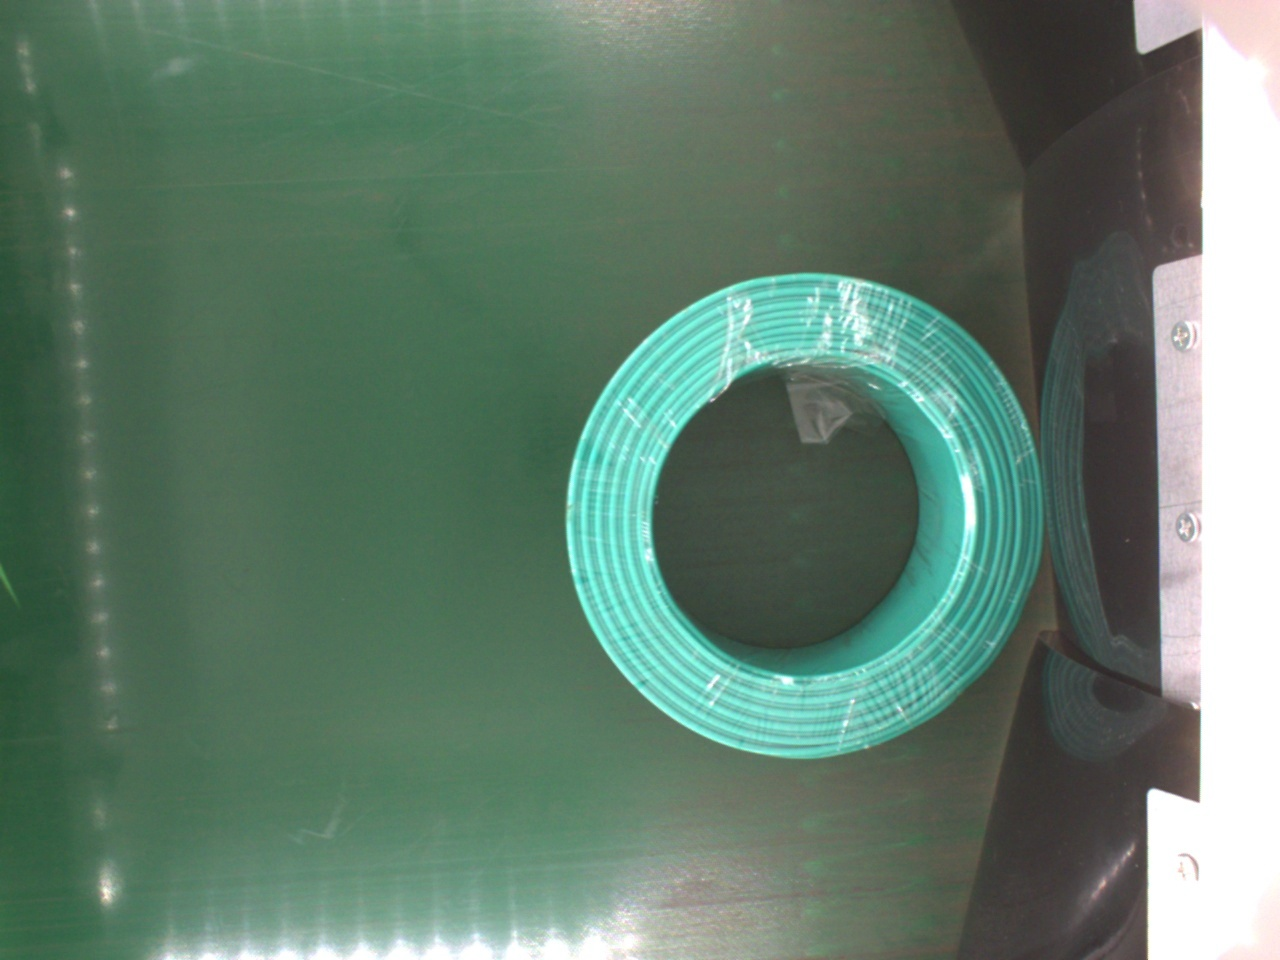green: (561, 268, 1042, 763)
